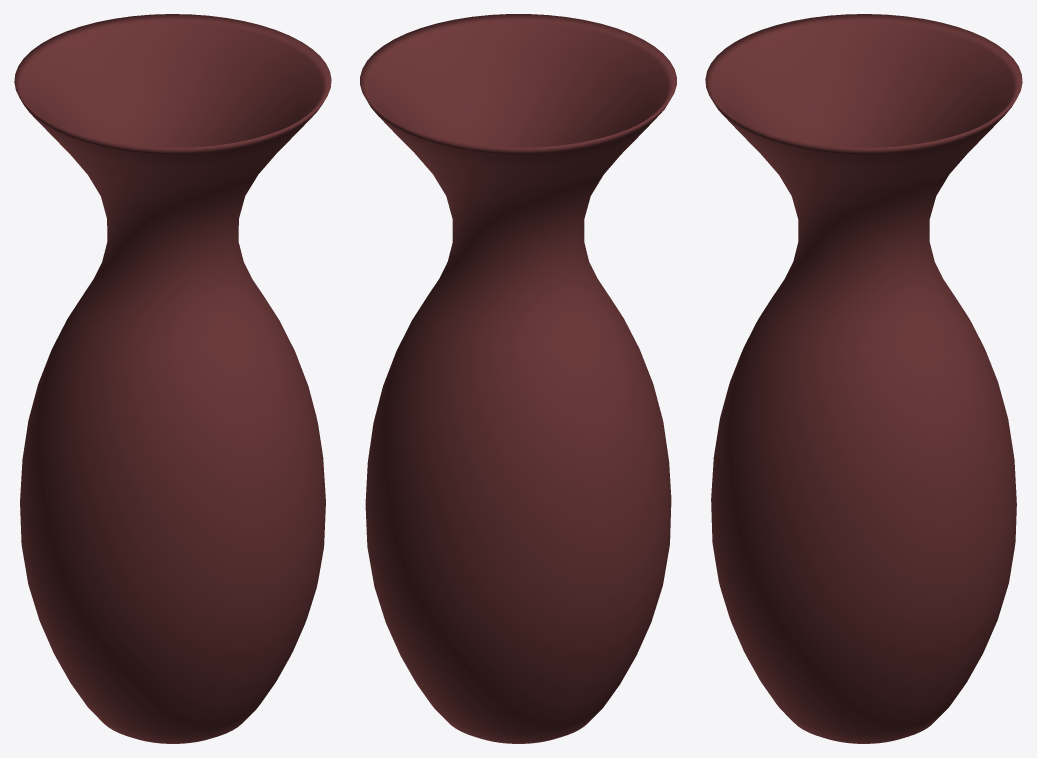
The model's file is vase2.fbx.
3 renders of one model, left to right at view 1: azimuth 30°, elevation 25°; view 2: azimuth 150°, elevation 25°; view 3: azimuth 270°, elevation 25°, orthographic.
Parts seen in each view (by area): view 1: Cube; view 2: Cube; view 3: Cube.
Part boxes in pixels (x1,y1,x2,y2): Cube: (14,14,331,743); Cube: (360,14,676,743); Cube: (705,14,1022,743).
Size of the model in its own units: 422 by 935 by 422.
